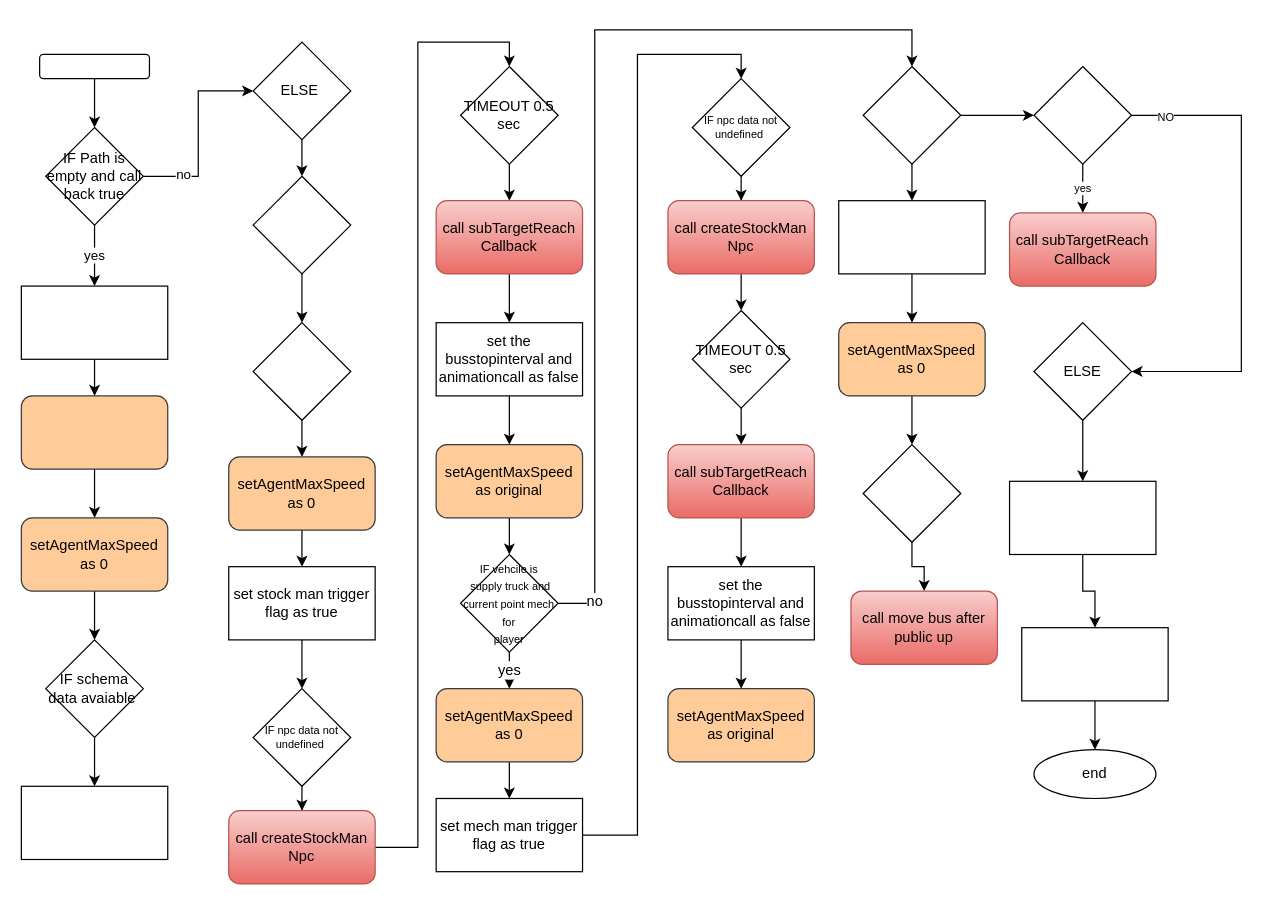
Image size: 1272x905. Some labels were removed from this diagram. Each missing label, with the centre of its shape:
"delete the schema data" belongs at point 94,822.
"ELSE IF bus stop interval false" belongs at point 1082,114.
"ELSE IF current point is busstop and bus not stop" belongs at point 911,114.
"IF call back true" belongs at point 301,224.
"IF vehcile is supply truck and current point supply for player" belongs at point 301,370.
"return npc trigger bolean" belongs at point 1094,663.
"set agent position our of arena" belongs at point 94,432.
"set callback is false store into free vehicle array and set destination reached" belongs at point 94,322.
"set the busstopinterval and animationcall as true and call back as false" belongs at point 911,236.
"Set the target and previous path and remove the current path point" belongs at point 1082,517.
"start" belongs at point 93,66.
"TIMEOUT 1 sec" belongs at point 911,492.
